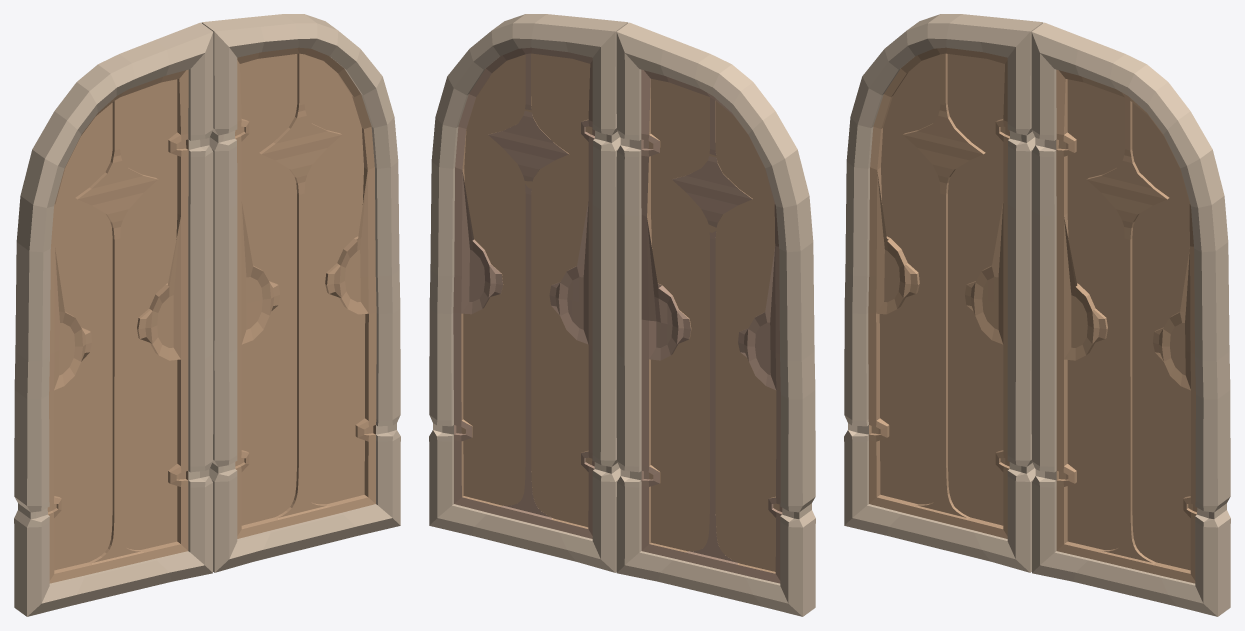
File: 1-4door.fbx
The picture shows the model from 3 angles, left to right: view 1: azimuth 30°, elevation 25°; view 2: azimuth 150°, elevation 25°; view 3: azimuth 330°, elevation 25°; orthographic projection.
Visible parts, largest first — view 1: Level1_.051, Level1_.053; view 2: Level1_.051, Level1_.053; view 3: Level1_.053, Level1_.051.
Part boxes in pixels (box(x1,y1,x2,y2)): Level1_.051: box(14, 22, 213, 616); Level1_.053: box(201, 14, 400, 572); Level1_.051: box(616, 22, 815, 616); Level1_.053: box(429, 14, 628, 572); Level1_.053: box(1031, 22, 1230, 616); Level1_.051: box(844, 14, 1043, 572).
Bounding box in the file's own units: 50.51 × 69.88 × 4.5.
